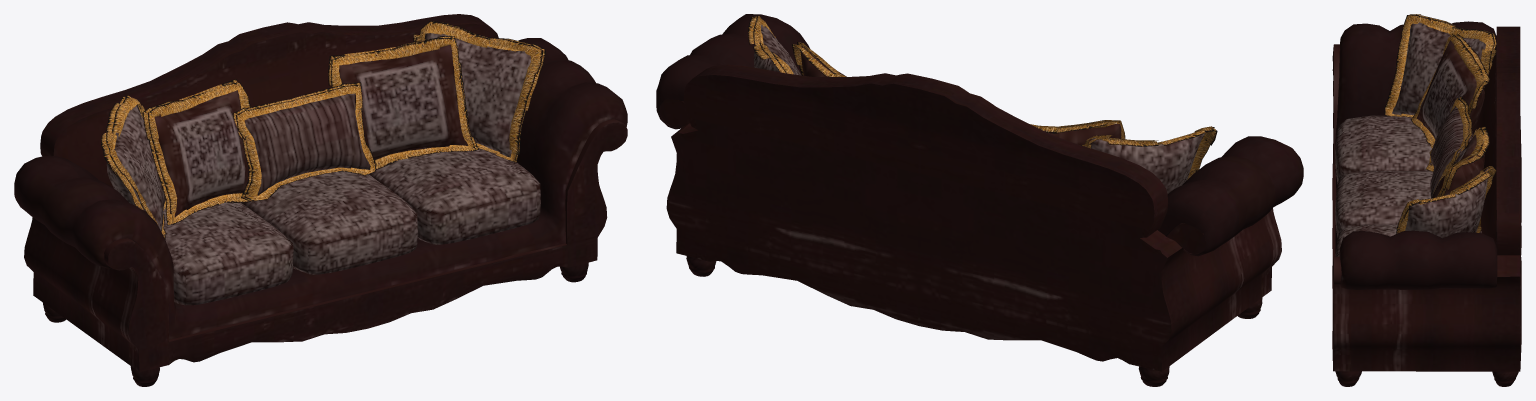
File: nyb_devils_sofa.glb
The picture shows the model from 3 angles, left to right: view 1: azimuth 30°, elevation 25°; view 2: azimuth 150°, elevation 25°; view 3: azimuth 270°, elevation 25°; orthographic projection. The views are drawn at different scales.
Visible parts, largest first — view 1: sofa_03; view 2: sofa_03; view 3: sofa_03.
Part boxes in pixels (box(x1,y1,x2,y2)): sofa_03: box(14, 14, 627, 386); sofa_03: box(656, 14, 1303, 386); sofa_03: box(1332, 14, 1521, 386).
Size of the model in its own units: 2.73 by 1.12 by 0.9251.
Materials: 2 (2 with a texture image).
